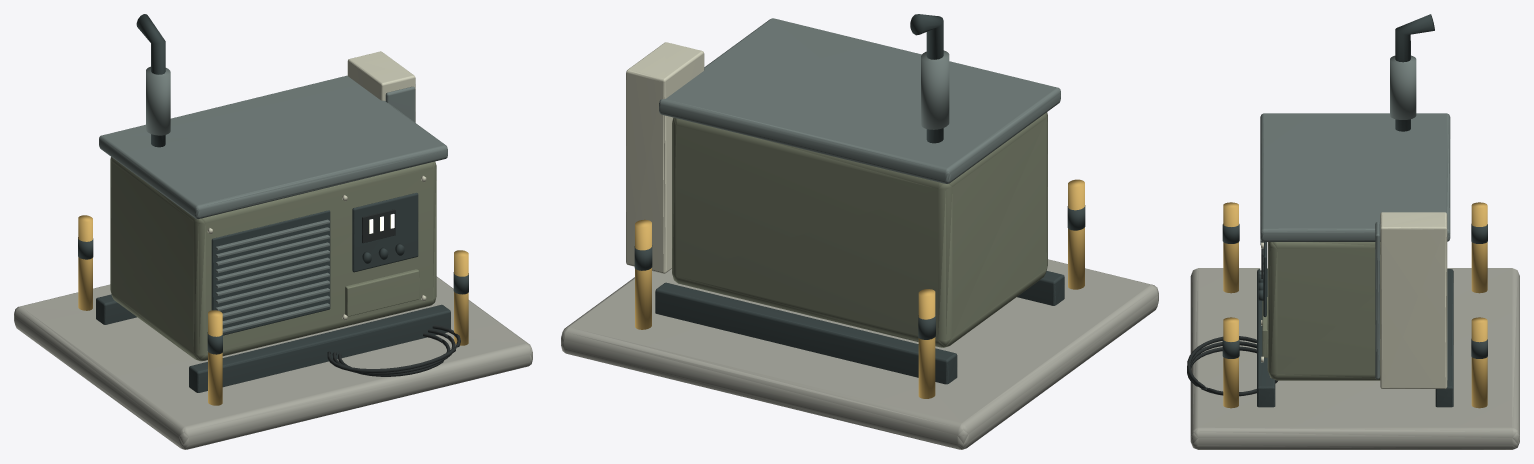
File: generator.glb
3 views of the same model, side by side, from view 1: azimuth 30°, elevation 25°; view 2: azimuth 150°, elevation 25°; view 3: azimuth 270°, elevation 25° (orthographic). The views are drawn at different scales.
Parts seen in each view (by area): view 1: Generator; view 2: Generator; view 3: Generator.
Boxes of the visible parts, x1,y1,x2,y2 form: Generator: (14, 14, 532, 449); Generator: (561, 14, 1158, 449); Generator: (1187, 14, 1519, 449).
Bounding box in the file's own units: 2.02 × 1.79 × 1.72.
